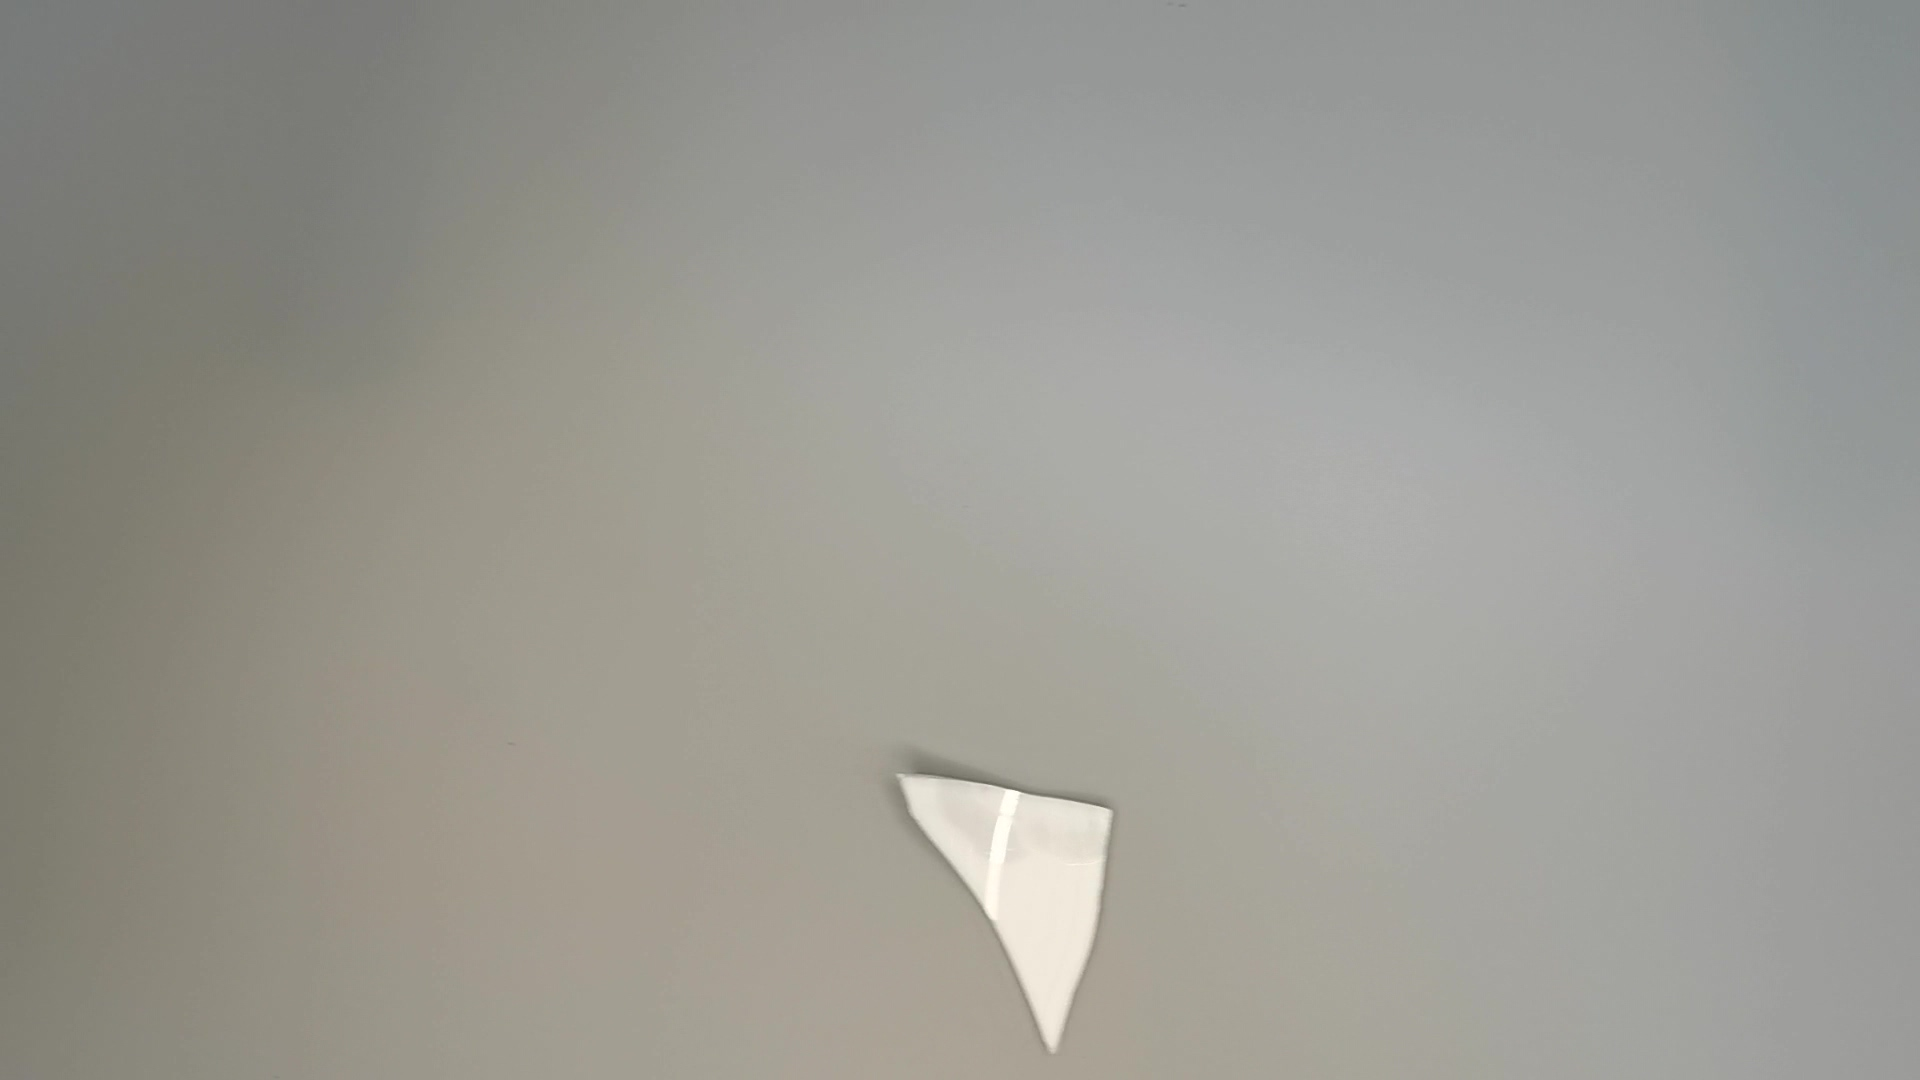ceramic: (885, 764, 1126, 1071)
